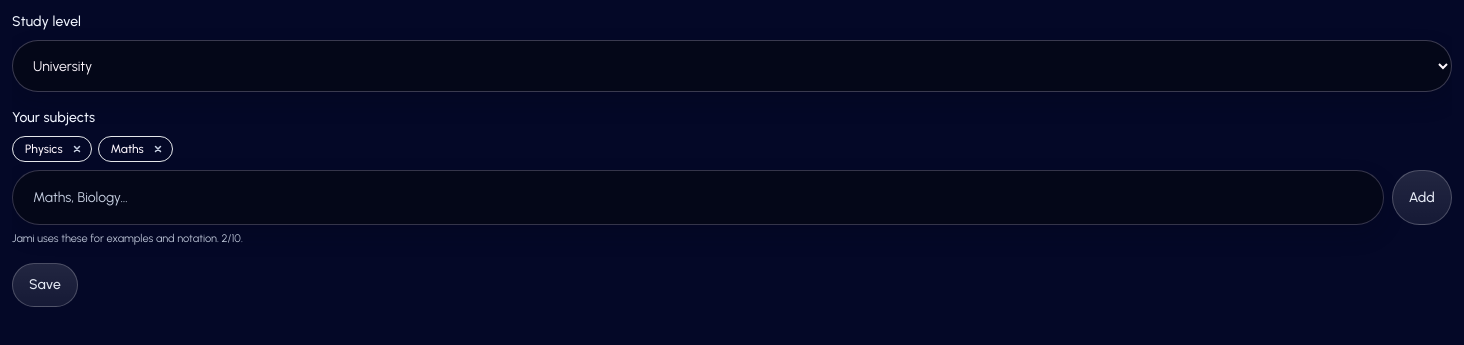
Test: the study profile form › lets a subject be taken off the list
The width and height of the screenshot is (1464, 345).
What coordinates should you click on to do the following:
click the button named "Remove Physics"
I would click on:
 (77, 149)
Its box is x1=69 y1=141 x2=85 y2=157.
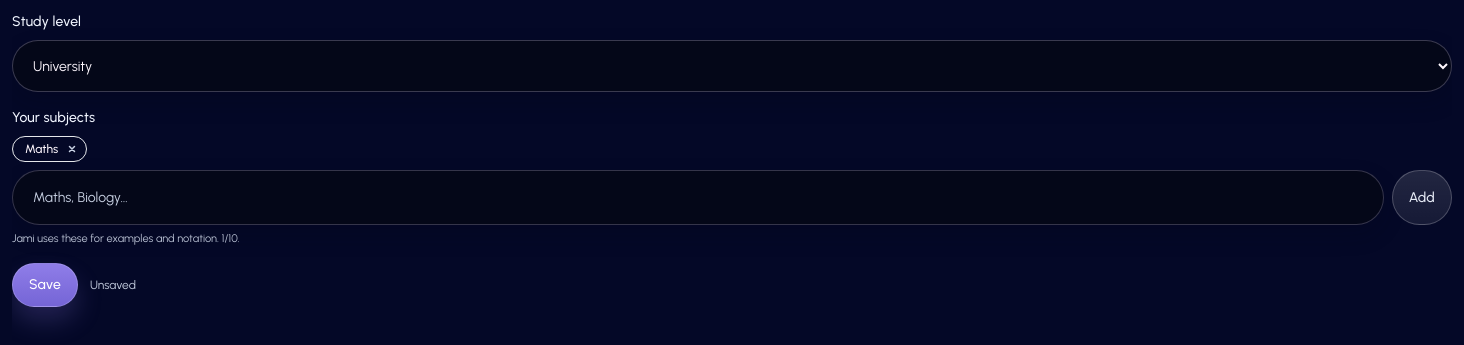
expect the text "Maths" is shown: met, box x1=12 y1=136 x2=87 y2=162
expect the text "Physics" is gone: met
